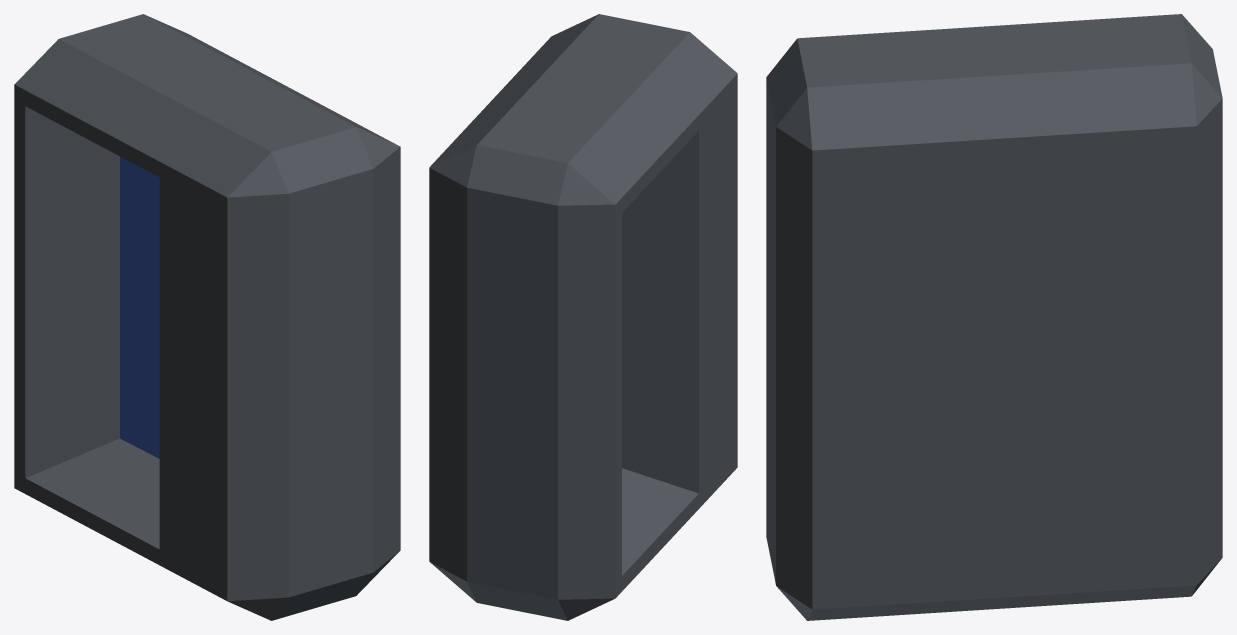
Rendered from Mothership_01_Detail_1_Blue.fbx.
The picture shows the model from 3 angles, left to right: view 1: azimuth 30°, elevation 25°; view 2: azimuth 150°, elevation 25°; view 3: azimuth 270°, elevation 25°; orthographic projection. The views are drawn at different scales.
Visible parts, largest first — view 1: Mothership_01_Detail_1_Blue; view 2: Mothership_01_Detail_1_Blue; view 3: Mothership_01_Detail_1_Blue.
Part boxes in pixels (<box>): Mothership_01_Detail_1_Blue: <box>14,14,400,620</box>; Mothership_01_Detail_1_Blue: <box>429,14,737,620</box>; Mothership_01_Detail_1_Blue: <box>766,14,1222,620</box>.
Bounding box in the file's own units: 157 × 311 × 241.
1 material, 1 textured.
